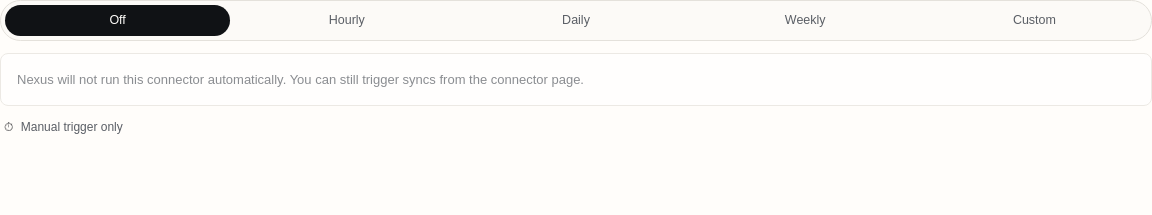
Test: ScheduleField › rejects a 6-field (seconds-granularity) expression the backend can't parse
The image size is (1152, 215).
Click the tab "Custom": click(1034, 20) left=922, top=5, right=1147, bottom=36
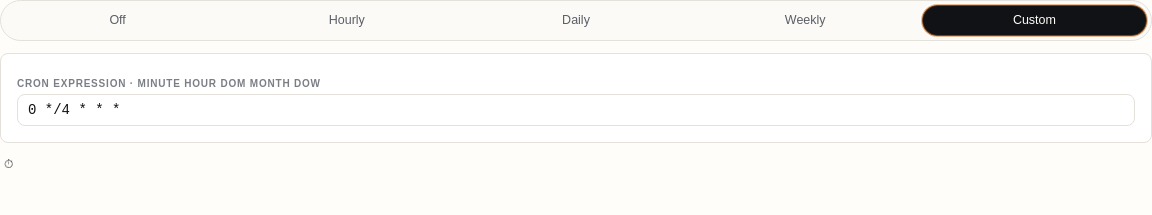
In the field with placeholder "0 */4 * * *": (576, 110) left=17, top=94, right=1135, bottom=126, type "0 0 12 * * 1"
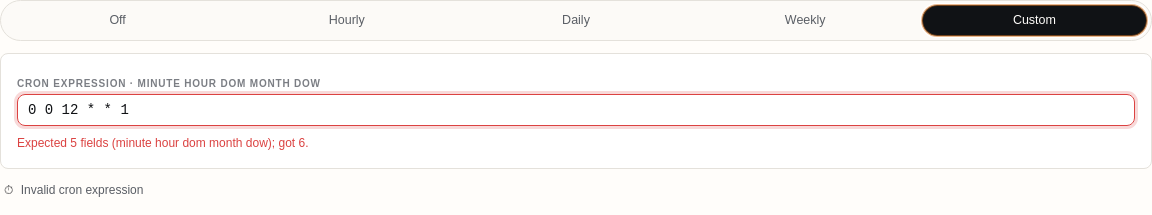
Now the text "Expected 5 fields (minute hour dom month dow); got 6." is shown, box left=17, top=136, right=308, bottom=150
Now the text "⏱ Invalid cron expression" is shown, box left=4, top=181, right=144, bottom=199
